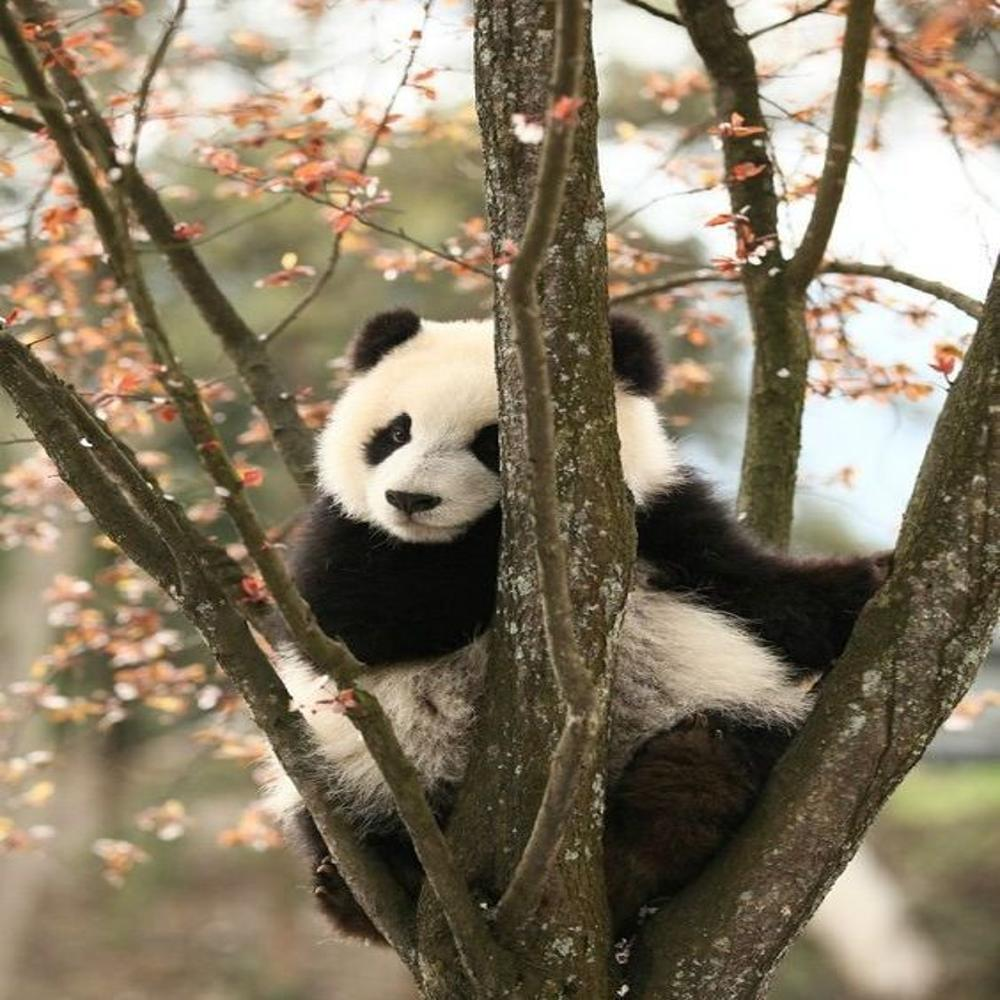panda: (274, 300, 922, 957)
